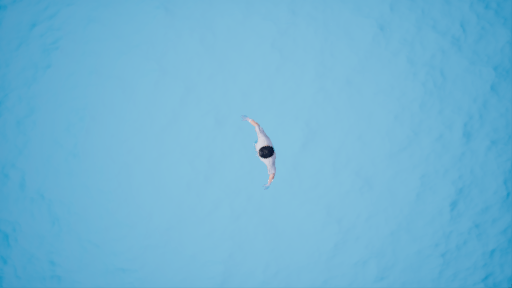person: (235, 111, 285, 191)
